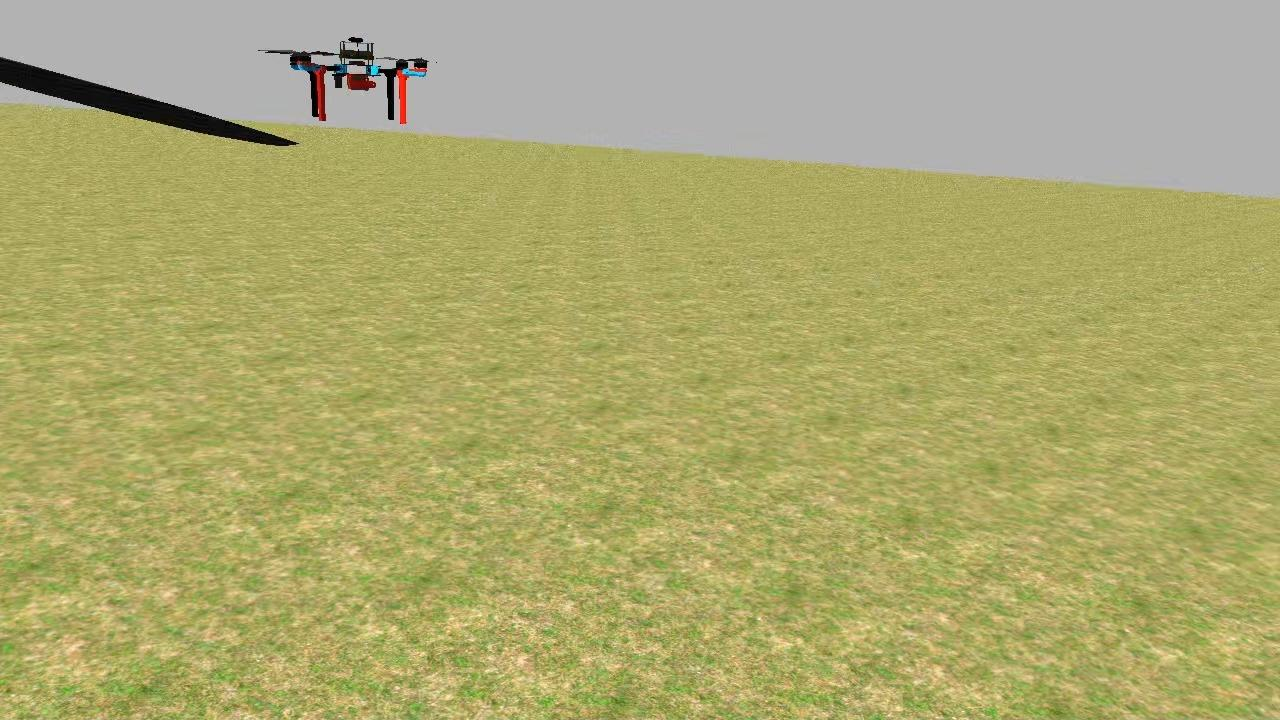UAV: (280, 30, 436, 126)
